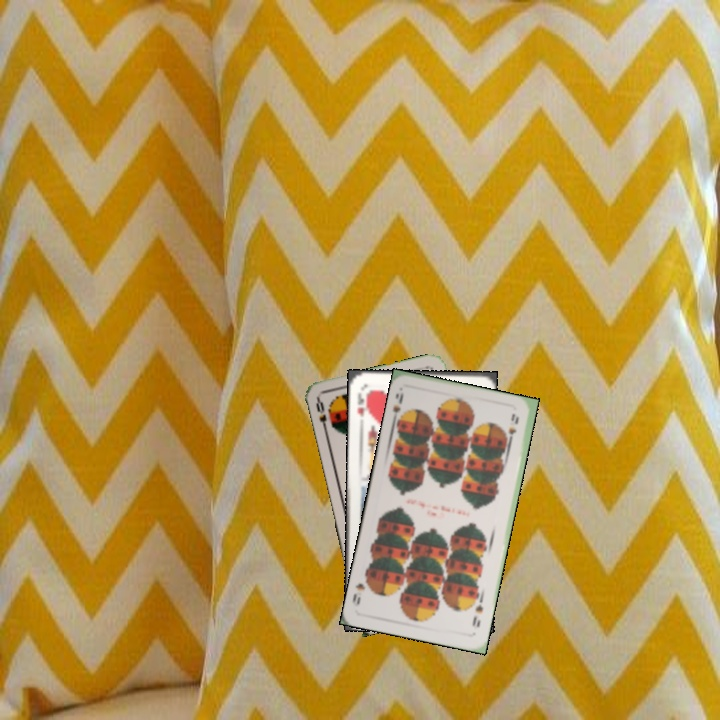HK: (353, 388, 367, 420)
S9: (388, 385, 406, 426), (468, 594, 485, 630)
SO: (312, 395, 330, 435)
